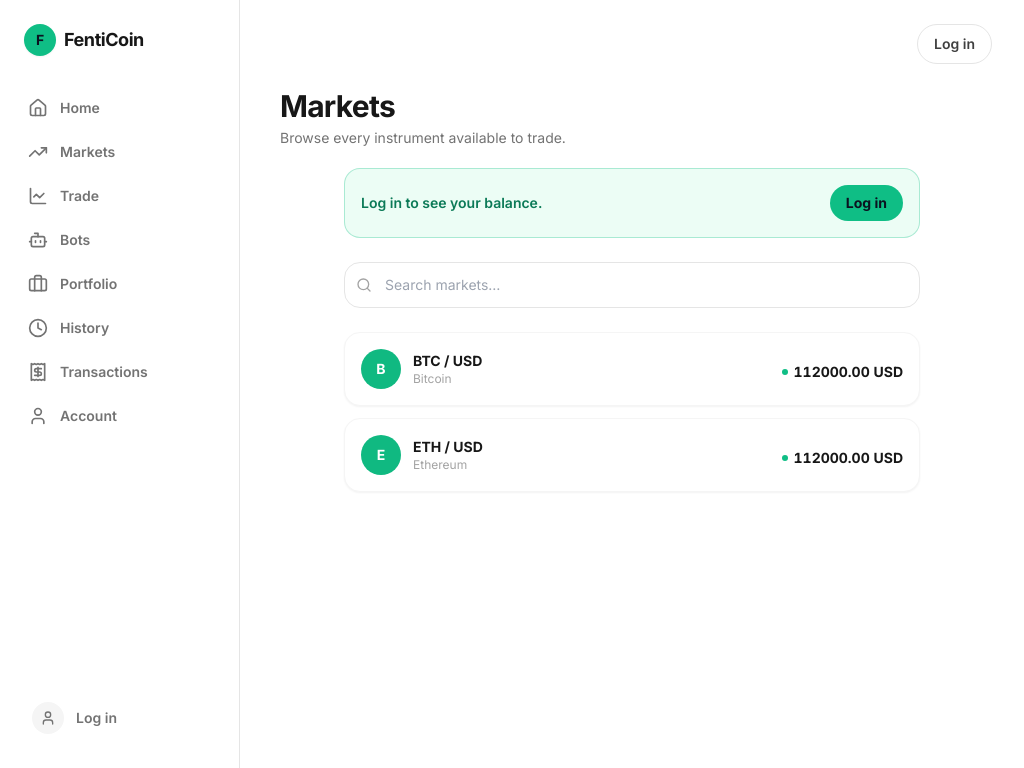
MarketsPage › shows an empty state when nothing matches the search
The width and height of the screenshot is (1024, 768).
Expected: the text "BTC / USD" is shown, x1=413 y1=351 x2=482 y2=371
In the search field labelled "Search markets…": x=632, y=285 x1=344 y1=262 x2=920 y2=308, type "nonexistent-market-xyz"
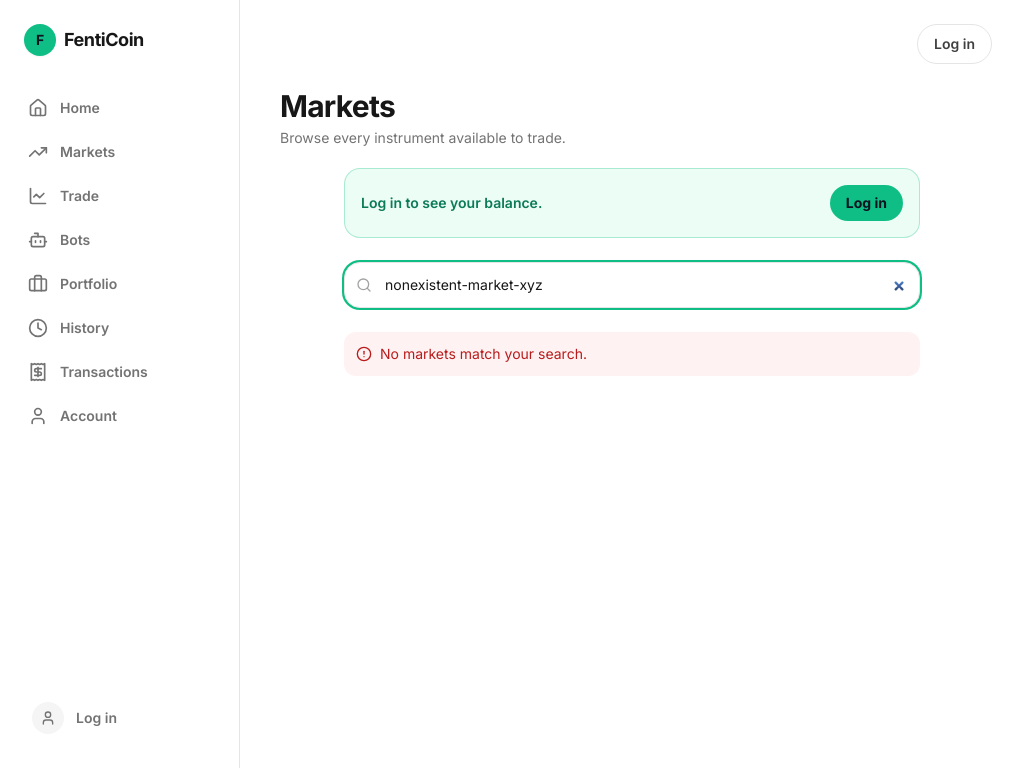
Now the text "No markets match your search." is shown, box x1=344 y1=332 x2=920 y2=376
